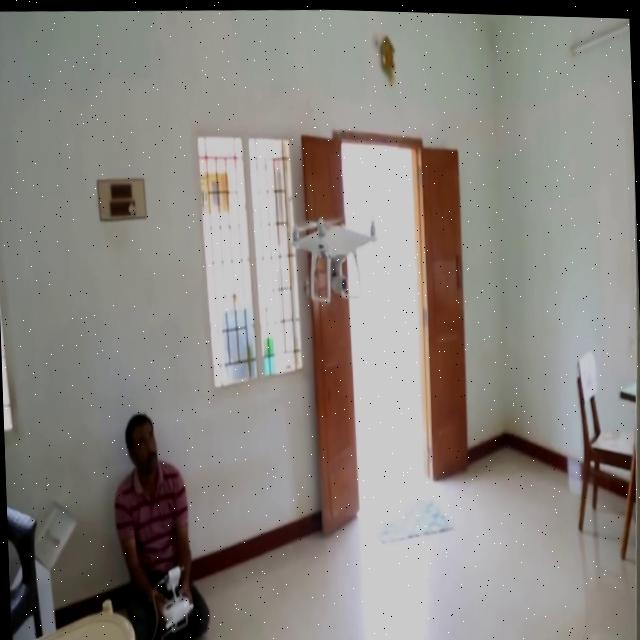drone: (270, 178, 392, 320)
